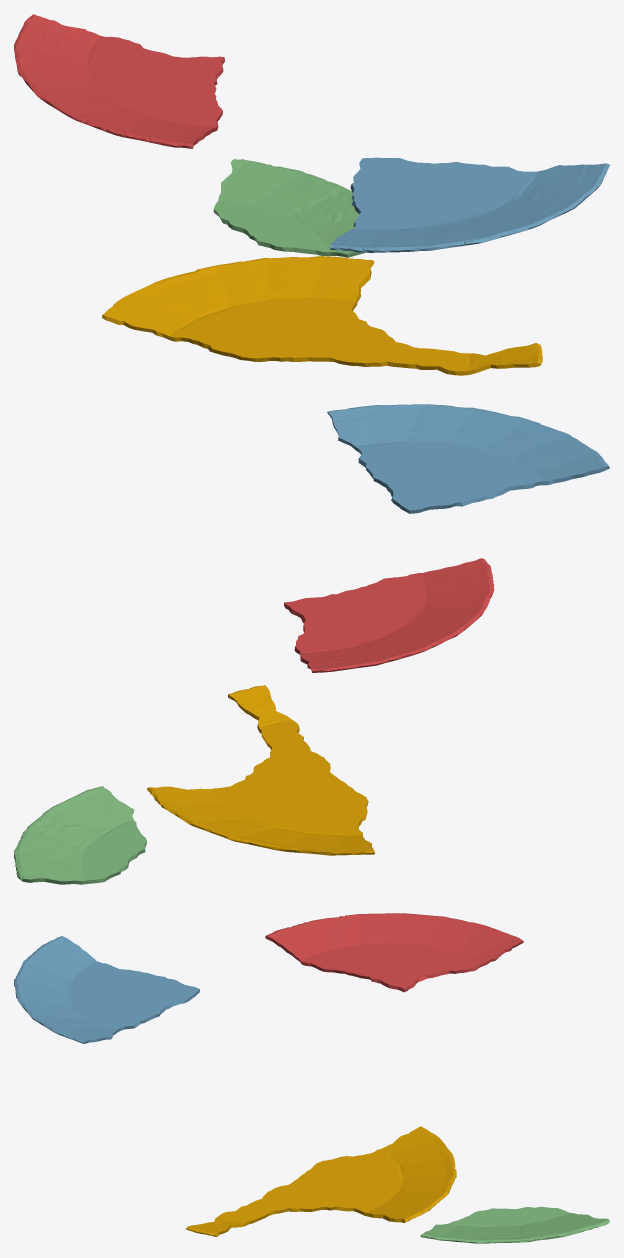
Rendered from fractured_8_4pcs_transformed.glb.
The picture shows the model from 3 angles, top to bottom: view 1: azimuth 30°, elevation 25°; view 2: azimuth 150°, elevation 25°; view 3: azimuth 270°, elevation 25°; orthographic projection. The views are drawn at different scales.
Visible parts, largest first — view 1: piece_0.obj, piece_2.obj, piece_1.obj, piece_3.obj; view 2: piece_2.obj, piece_0.obj, piece_1.obj, piece_3.obj; view 3: piece_1.obj, piece_0.obj, piece_2.obj, piece_3.obj.
Boxes of the visible parts, left/top/right/bottom form: piece_0.obj: left=102, top=256, right=542, bottom=375; piece_2.obj: left=330, top=157, right=609, bottom=252; piece_1.obj: left=14, top=14, right=224, bottom=148; piece_3.obj: left=213, top=159, right=364, bottom=257; piece_2.obj: left=327, top=404, right=609, bottom=513; piece_0.obj: left=147, top=685, right=374, bottom=855; piece_1.obj: left=284, top=558, right=494, bottom=672; piece_3.obj: left=14, top=786, right=146, bottom=884; piece_1.obj: left=265, top=913, right=523, bottom=992; piece_0.obj: left=186, top=1126, right=456, bottom=1236; piece_2.obj: left=14, top=936, right=199, bottom=1043; piece_3.obj: left=420, top=1206, right=609, bottom=1243.
Bounding box in the file's own units: 1 × 0.6367 × 1.75.
